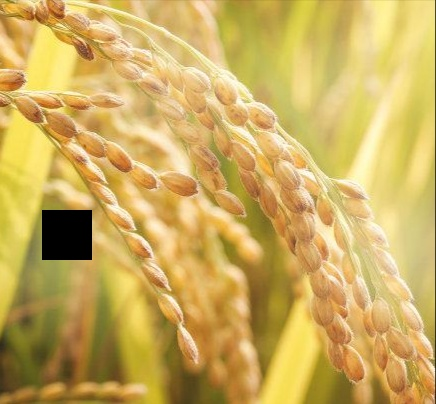rice: (5, 1, 433, 402)
